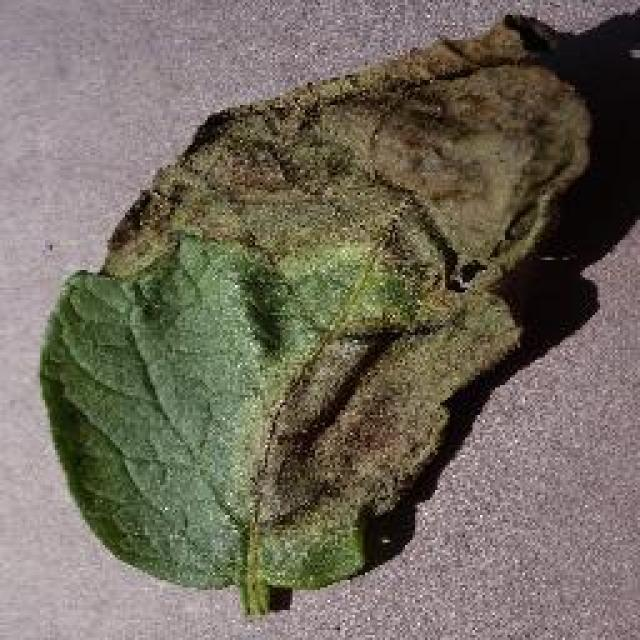late_blight: (35, 10, 597, 618)
